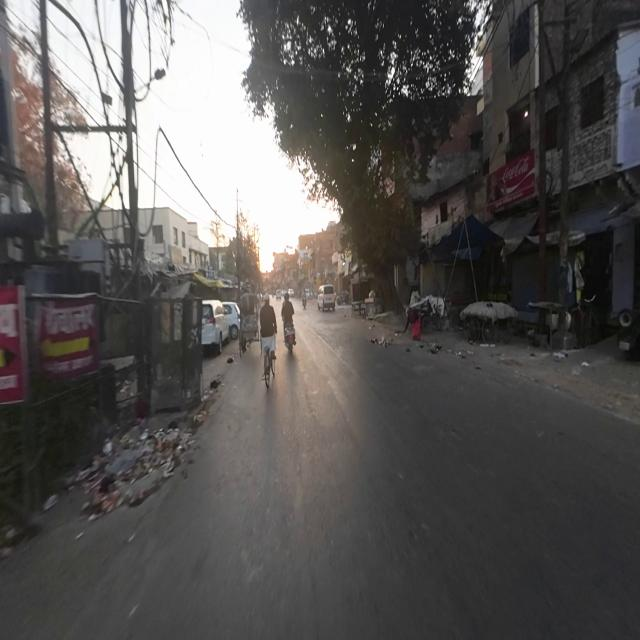Garbage: (83, 418, 182, 511)
